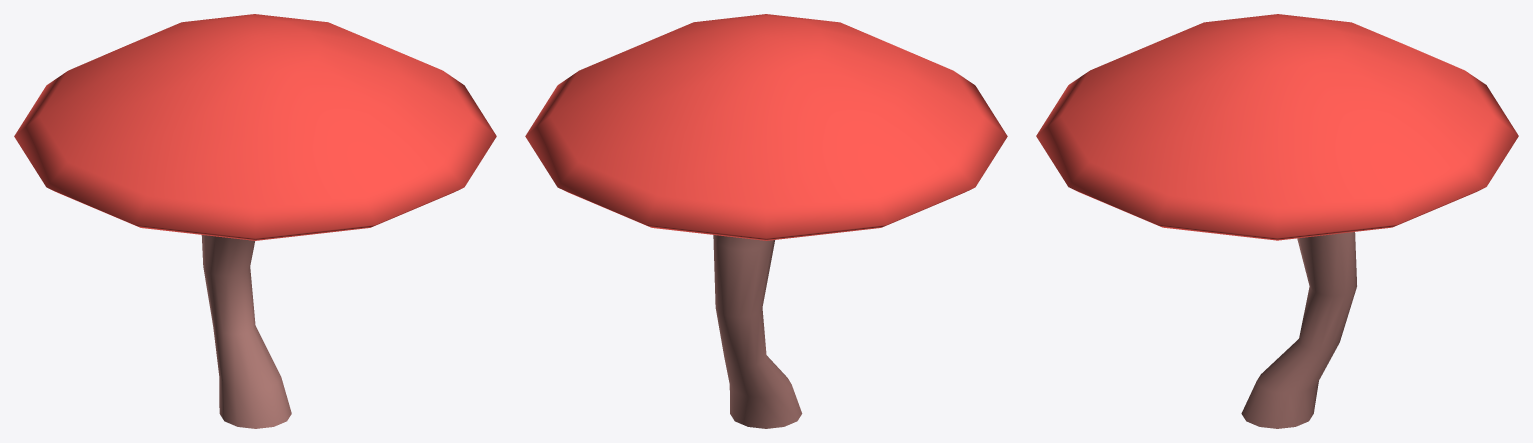
The model's file is Cogumelo02.fbx.
The picture shows the model from 3 angles, left to right: view 1: azimuth 30°, elevation 25°; view 2: azimuth 150°, elevation 25°; view 3: azimuth 270°, elevation 25°; orthographic projection.
Visible parts, largest first — view 1: Cogumelo; view 2: Cogumelo; view 3: Cogumelo.
Boxes of the visible parts, left/top/right/bottom form: Cogumelo: left=14, top=14, right=496, bottom=428; Cogumelo: left=525, top=14, right=1007, bottom=428; Cogumelo: left=1036, top=14, right=1518, bottom=428.
Size of the model in its own units: 1132 by 976 by 1132.
